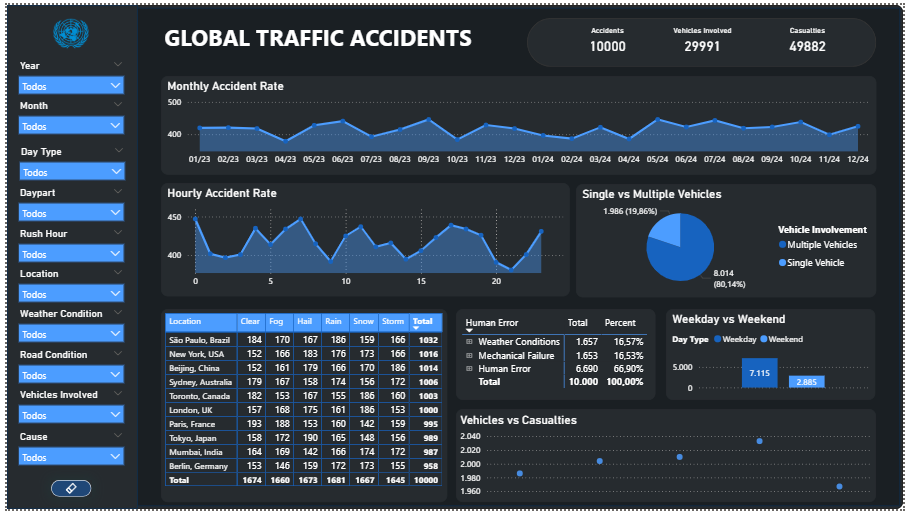

The dashboard page shown, as its layout file describes it:
{"tool":"powerbi","page":{"name":"Main","canvas":[1280,720],"ordinal":0},"visuals":[{"type":"shape","box":[0,0,1280,720],"z":0},{"type":"shape","box":[743,18.6,498.8,69.8],"z":1000},{"type":"shape","box":[0,0,186.7,720],"z":2000},{"type":"slicer","fields":{"Values":["global_traffic_accidents.Year"]},"box":[6,72.7,172.3,57.7],"z":3000},{"type":"slicer","fields":{"Values":["global_traffic_accidents.Month"]},"box":[6,130,172,65.3],"z":4000},{"type":"slicer","fields":{"Values":["global_traffic_accidents.Location"]},"box":[6,370,172.2,57.8],"z":5000},{"type":"slicer","fields":{"Values":["global_traffic_accidents.Weather Condition"]},"box":[6,427.8,172.2,58.9],"z":6000},{"type":"slicer","fields":{"Values":["global_traffic_accidents.Road Condition"]},"box":[6,485.7,172,57.1],"z":7000},{"type":"slicer","fields":{"Values":["global_traffic_accidents.Vehicles Involved"]},"box":[6,542.3,172.3,60],"z":8000},{"type":"slicer","fields":{"Values":["global_traffic_accidents.turn"]},"box":[6,254.3,172.1,57.9],"z":9000},{"type":"slicer","fields":{"Values":["global_traffic_accidents.dayType"]},"box":[6.4,195.7,172.1,58.6],"z":10000},{"type":"slicer","fields":{"Values":["global_traffic_accidents.Cause"]},"box":[6,602.3,172,70],"z":11000},{"type":"slicer","fields":{"Values":["global_traffic_accidents.RushHourCategory"]},"box":[6,312.2,172,57.8],"z":12000},{"type":"image","box":[61.4,10,60,62.9],"z":13000},{"type":"actionButton","box":[63.3,678.3,57.8,23.9],"z":14000},{"type":"textbox","box":[219.8,18.6,457,64],"z":15000},{"type":"card","title":"Accidents","fields":{"Values":["CountNonNull(global_traffic_accidents.Accident ID)"]},"box":[782.6,30.2,150,46.5],"z":16000},{"type":"card","title":"Vehicles Involved","fields":{"Values":["Sum(global_traffic_accidents.Vehicles Involved)"]},"box":[918.6,30.2,150,46.5],"z":17000},{"type":"card","title":"Casualties","fields":{"Values":["Sum(global_traffic_accidents.Casualties)"]},"box":[1068.6,30.2,150,46.5],"z":18000},{"type":"lineChart","title":"Monthly Accident Rate","fields":{"Category":["global_traffic_accidents.monthYear"],"Y":["CountNonNull(global_traffic_accidents.Accident ID)"]},"box":[219.8,101.2,1022.1,140.7],"z":19000},{"type":"lineChart","title":"Hourly Accident Rate","fields":{"Y":["CountNonNull(global_traffic_accidents.Accident ID)"],"Category":["global_traffic_accidents.hhTime"]},"box":[219.8,254.7,583.7,161.6],"z":20000},{"type":"pieChart","title":"Single vs Multiple Vehicles","fields":{"Category":["global_traffic_accidents.multipleVehicles"],"Y":["global_traffic_accidents.Quantidade"]},"box":[812.8,255.8,429.1,161.6],"z":21000},{"type":"columnChart","title":"Weekday vs Weekend","fields":{"Category":["global_traffic_accidents.dayType"],"Y":["global_traffic_accidents.Quantidade"],"Series":["global_traffic_accidents.dayType"]},"box":[941.9,433.7,298.8,130.2],"z":22000},{"type":"pivotTable","title":"Weather-Related Accidents by Location","fields":{"Rows":["global_traffic_accidents.Location"],"Values":["CountNonNull(global_traffic_accidents.Weather Condition)"],"Columns":["global_traffic_accidents.Weather Condition"]},"box":[219.8,433.7,409.3,275.6],"z":23000},{"type":"scatterChart","title":"Vehicles vs Casualties","fields":{"X":["global_traffic_accidents.Vehicles Involved"],"Y":["CountNonNull(global_traffic_accidents.Casualties)"]},"box":[641.9,576.7,600,132.6],"z":24000},{"type":"pivotTable","title":"Human Error vs External Factors","fields":{"Rows":["global_traffic_accidents.humanError","global_traffic_accidents.Cause"],"Values":["global_traffic_accidents.Quantidade","Divide(global_traffic_accidents.Quantidade, ScopedEval(global_traffic_accidents.Quantidade, []))"]},"box":[641,433.7,284.9,130.2],"z":25000}]}

Visuals, with their boxes in screenshot pixels (x1, y1, x2, y2), scaled from the page's 1280x720 canvas onto the 909x515 screenshot:
shape: (0,0,908,514)
shape: (528,13,882,63)
shape: (0,0,133,514)
slicer - global_traffic_accidents.Year: (4,52,127,93)
slicer - global_traffic_accidents.Month: (4,93,126,140)
slicer - global_traffic_accidents.Location: (4,265,127,306)
slicer - global_traffic_accidents.Weather Condition: (4,306,127,348)
slicer - global_traffic_accidents.Road Condition: (4,347,126,388)
slicer - global_traffic_accidents.Vehicles Involved: (4,388,127,431)
slicer - global_traffic_accidents.turn: (4,182,126,223)
slicer - global_traffic_accidents.dayType: (5,140,127,182)
slicer - global_traffic_accidents.Cause: (4,431,126,481)
slicer - global_traffic_accidents.RushHourCategory: (4,223,126,265)
image: (44,7,86,52)
actionButton: (45,485,86,502)
textbox: (156,13,481,59)
"Accidents" card: (556,22,662,55)
"Vehicles Involved" card: (652,22,759,55)
"Casualties" card: (759,22,865,55)
"Monthly Accident Rate" lineChart: (156,72,882,173)
"Hourly Accident Rate" lineChart: (156,182,571,298)
"Single vs Multiple Vehicles" pieChart: (577,183,882,299)
"Weekday vs Weekend" columnChart: (669,310,881,403)
"Weather-Related Accidents by Location" pivotTable: (156,310,447,507)
"Vehicles vs Casualties" scatterChart: (456,413,882,507)
"Human Error vs External Factors" pivotTable: (455,310,658,403)
